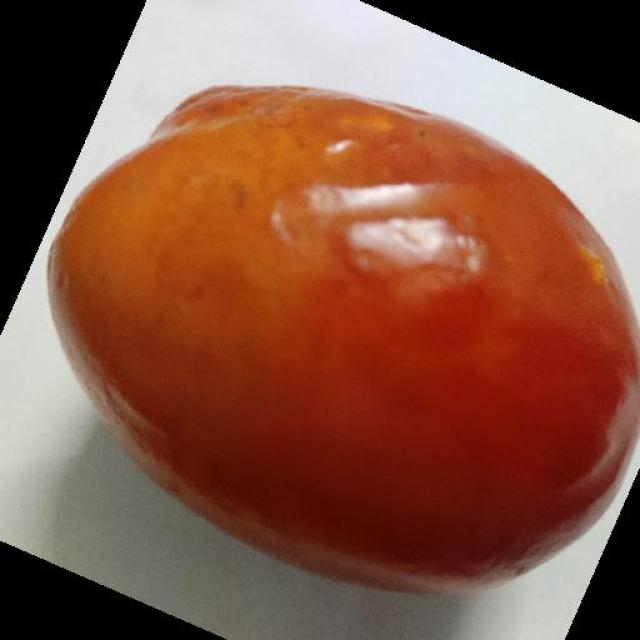Stale_tomato: (133, 82, 560, 604)
